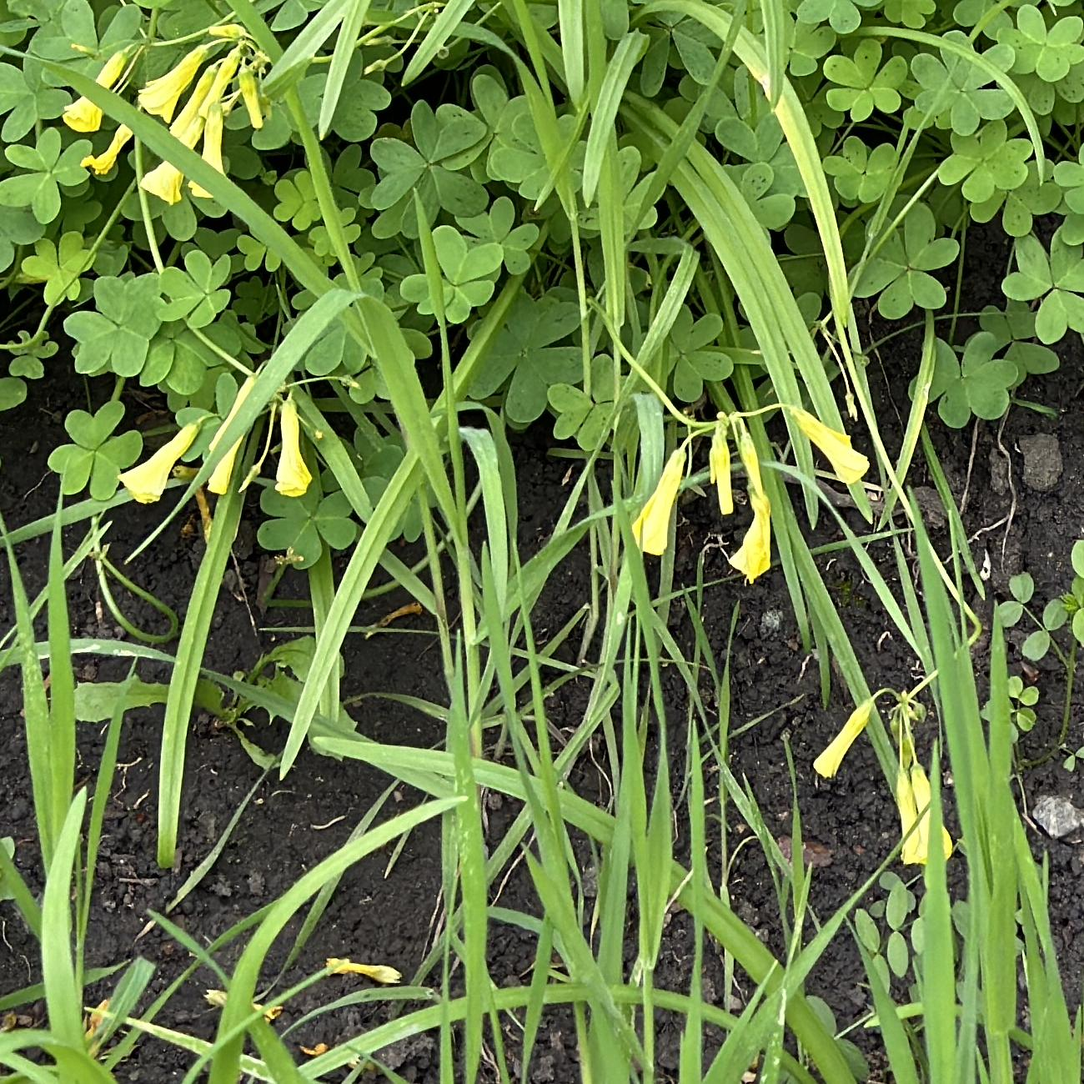Four-Leaf: (824, 34, 913, 122)
